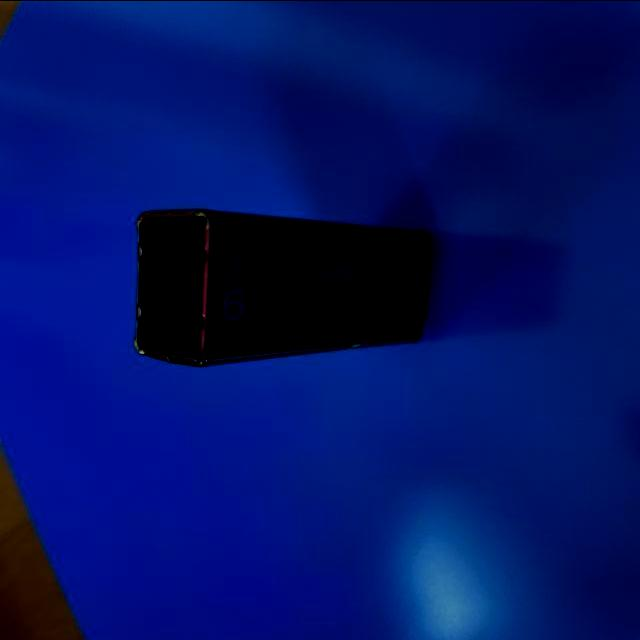9V: (134, 207, 429, 365)
